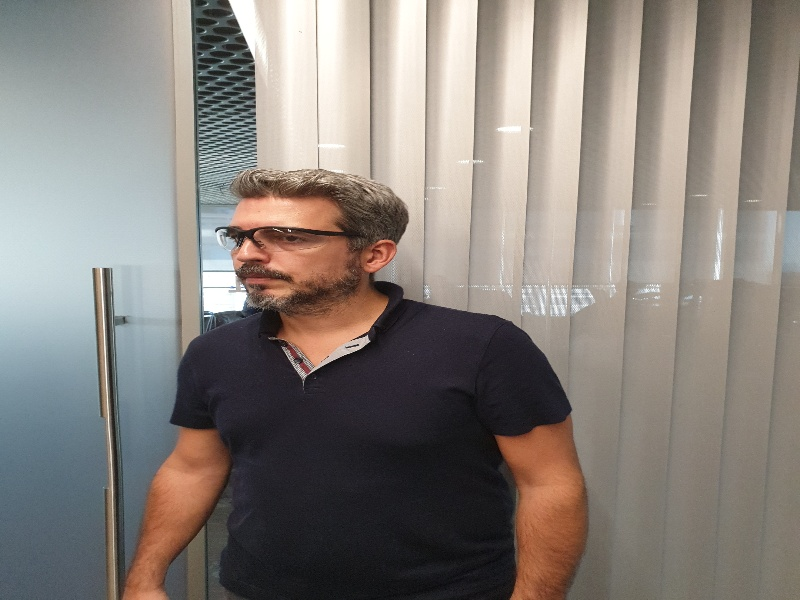Gozluk: (213, 224, 356, 251)
